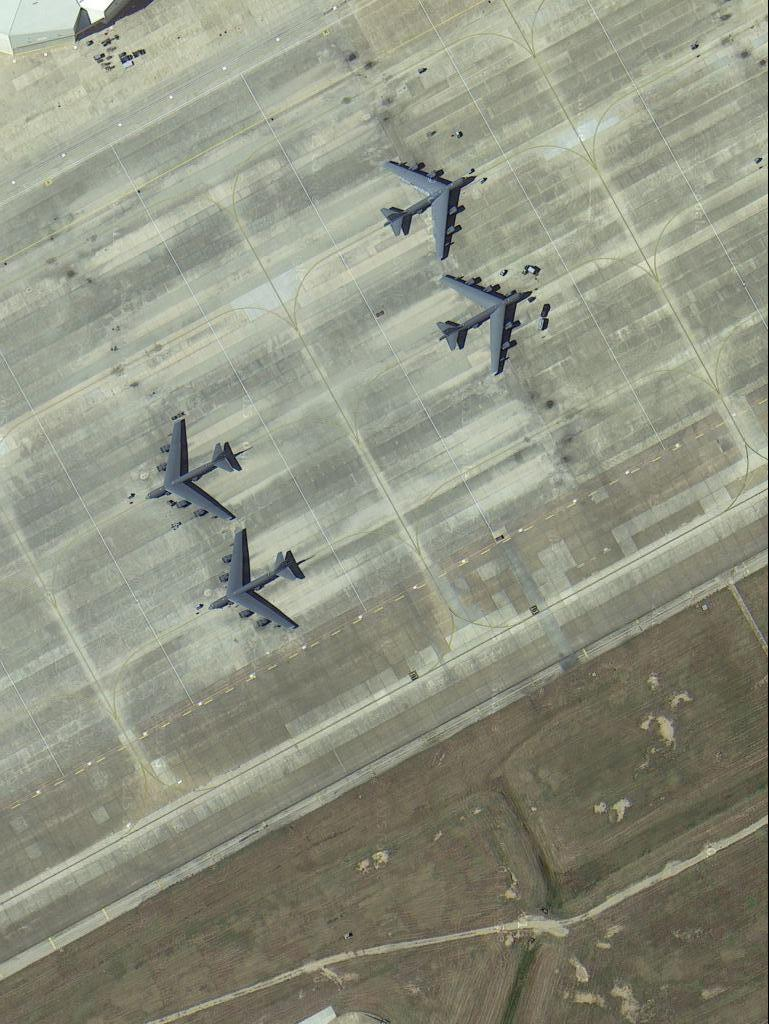B-52: (142, 414, 253, 526), (205, 525, 313, 635), (432, 266, 536, 375), (381, 155, 474, 264)
